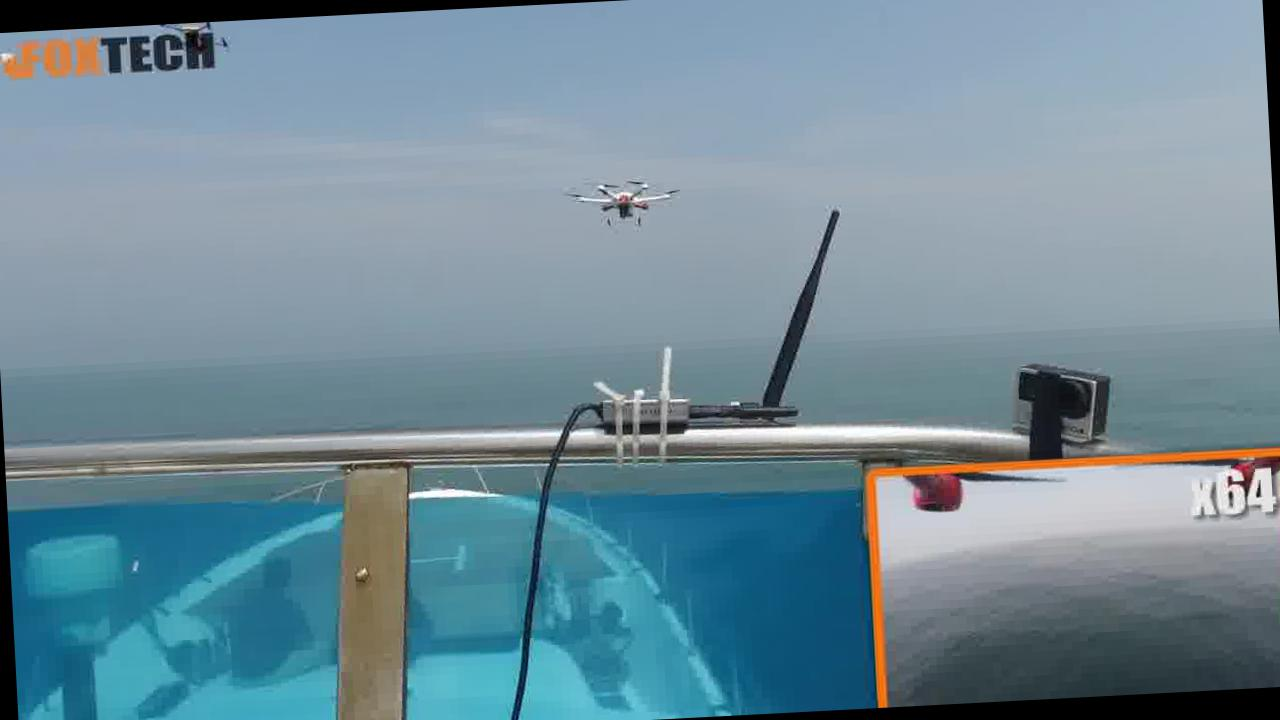drone: (566, 170, 694, 240)
